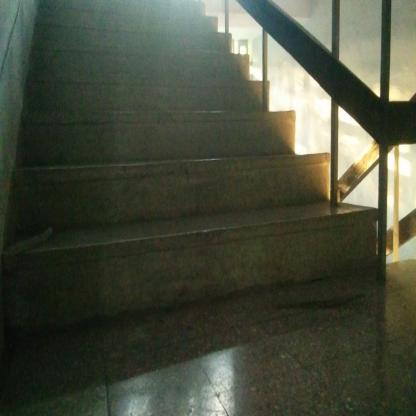stairs: (21, 119, 334, 293)
